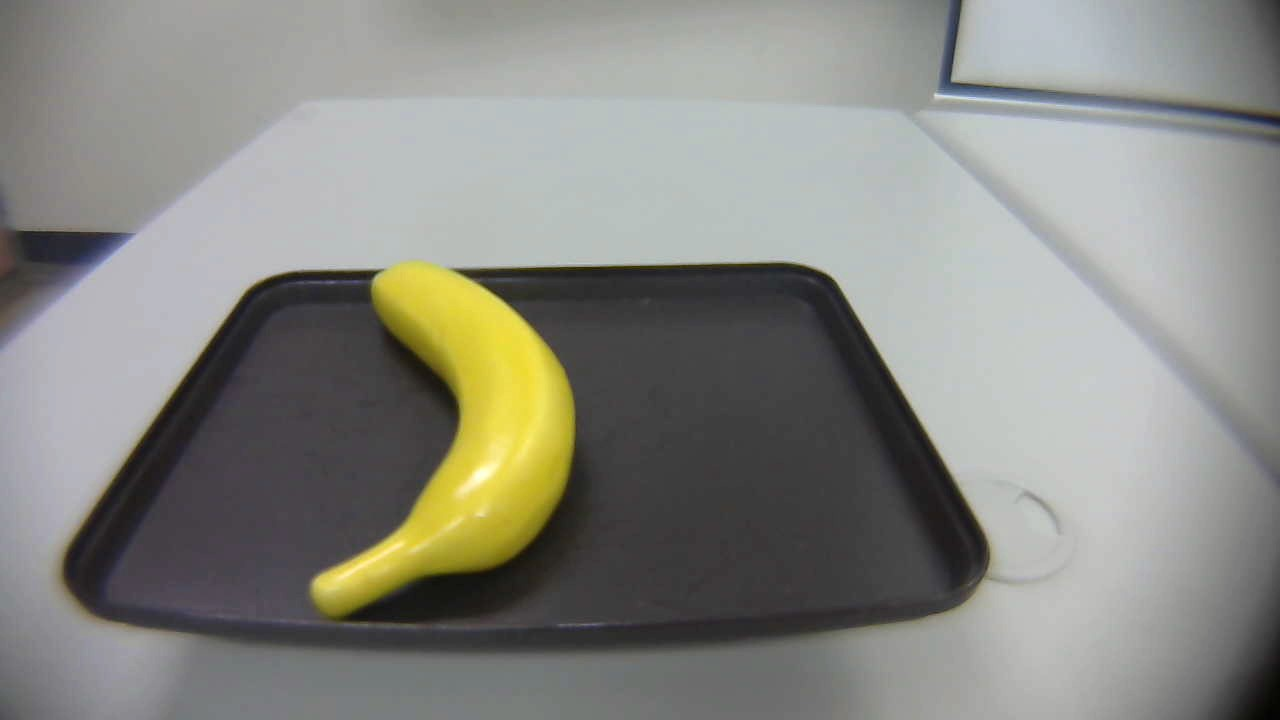banana: (272, 245, 610, 634)
